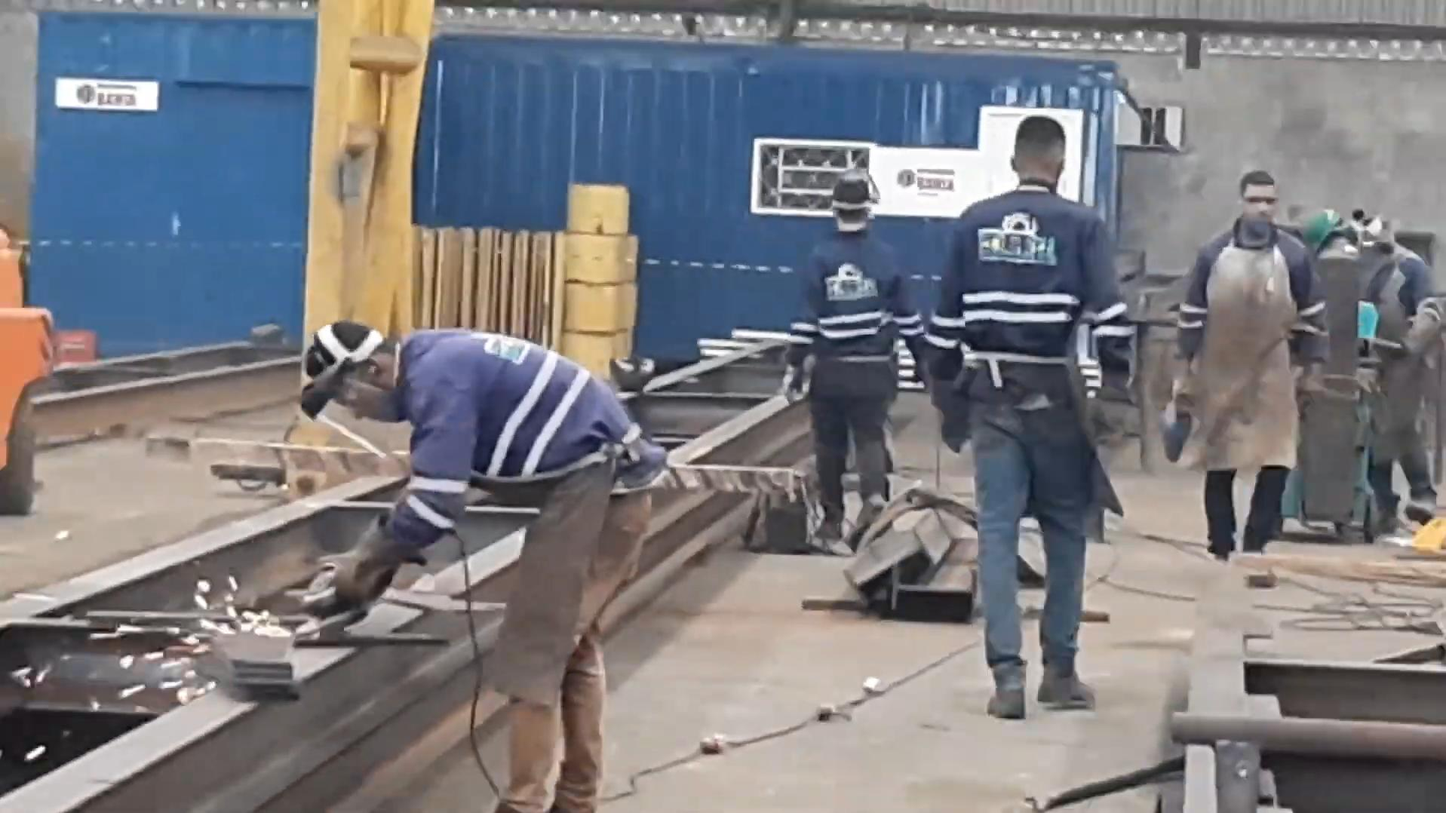boots: (980, 651, 1104, 727)
gloves: (323, 512, 411, 611), (774, 361, 812, 399)
helmet: (1299, 203, 1358, 261)
vest: (404, 335, 667, 531), (932, 187, 1142, 395), (789, 226, 926, 413), (1171, 231, 1330, 356)
